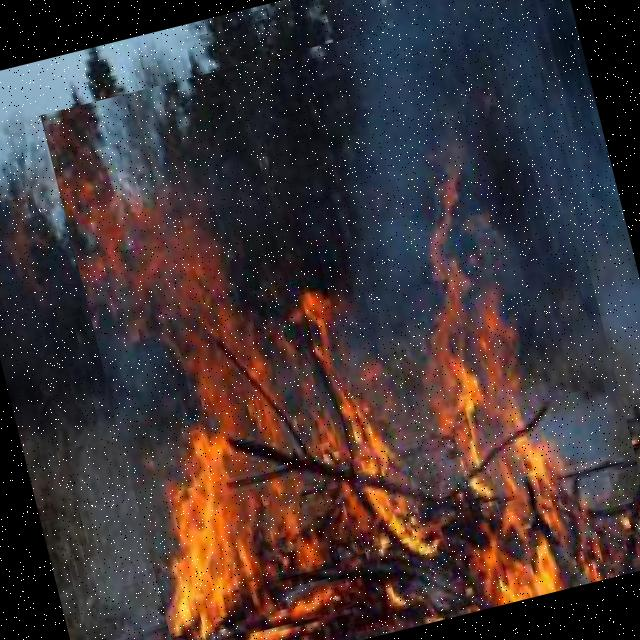fire: (40, 0, 640, 640)
